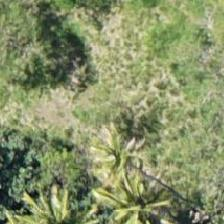coconut_tree: (69, 111, 159, 201), (11, 156, 101, 223), (79, 175, 169, 223)
